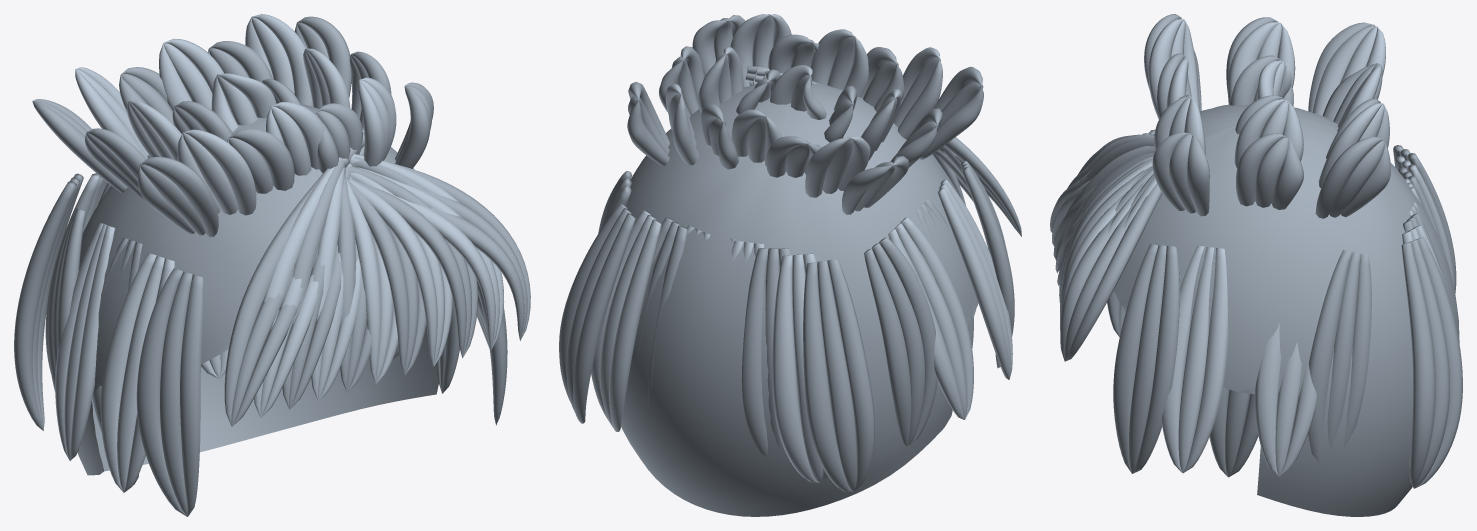
The picture shows the model from 3 angles, left to right: view 1: azimuth 30°, elevation 25°; view 2: azimuth 150°, elevation 25°; view 3: azimuth 270°, elevation 25°; orthographic projection. The views are drawn at different scales.
Visible parts, largest first — view 1: CrownHair_male_ref10, SideHair_-1_0_Strand2, BackHair_00_Strand0, SideHair_-1_0_Strand0, SideHair_-1_0_Strand1, SideHair_-1_1_Strand2, FrontHair_Sweep_00_Strand2, SideHair_-1_1_Strand1, SideHair_-1_3_Strand0, FrontHair_Sweep_07_Strand2, FrontHair_Sweep_06_Strand2, FrontHair_Sweep_08_Strand2 (+73 smaller); view 2: CrownHair_male_ref10, BackHair_00_Strand2, BackHair_01_Strand2, BackHair_00_Strand1, BackHair_00_Strand0, BackHair_07_Strand0, BackHair_02_Strand2, BackHair_08_Strand0, SideHair_-1_4_Strand2, SideHair_-1_1_Strand2, SideHair_-1_4_Strand1, SideHair_-1_4_Strand0 (+53 smaller); view 3: CrownHair_male_ref10, BackHair_08_Strand2, SideHair_1_0_Strand0, SideHair_1_1_Strand0, SideHair_1_0_Strand2, SideHair_1_1_Strand1, SideHair_1_0_Strand1, SideHair_1_4_Strand2, BackHair_08_Strand1, BackHair_08_Strand0, SideHair_1_4_Strand1, SideHair_1_1_Strand2 (+53 smaller).
Boxes of the visible parts, x1=… form: CrownHair_male_ref10: x1=77, y1=104, x2=438, y2=475; SideHair_-1_0_Strand2: x1=136, y1=268, x2=186, y2=516; BackHair_00_Strand0: x1=14, y1=181, x2=76, y2=430; SideHair_-1_0_Strand0: x1=180, y1=274, x2=203, y2=516; SideHair_-1_0_Strand1: x1=160, y1=271, x2=192, y2=516; SideHair_-1_1_Strand2: x1=100, y1=253, x2=156, y2=492; FrontHair_Sweep_00_Strand2: x1=224, y1=132, x2=364, y2=426; SideHair_-1_1_Strand1: x1=117, y1=255, x2=164, y2=492; SideHair_-1_3_Strand0: x1=70, y1=225, x2=115, y2=460; FrontHair_Sweep_07_Strand2: x1=349, y1=178, x2=437, y2=366; FrontHair_Sweep_06_Strand2: x1=347, y1=179, x2=409, y2=374; FrontHair_Sweep_08_Strand2: x1=352, y1=179, x2=466, y2=357; CrownHair_male_ref10: x1=621, y1=83, x2=978, y2=516; BackHair_00_Strand2: x1=803, y1=262, x2=852, y2=491; BackHair_01_Strand2: x1=772, y1=255, x2=818, y2=483; BackHair_00_Strand1: x1=817, y1=260, x2=857, y2=491; BackHair_00_Strand0: x1=827, y1=259, x2=874, y2=490; BackHair_07_Strand0: x1=609, y1=219, x2=661, y2=431; BackHair_02_Strand2: x1=741, y1=248, x2=768, y2=457; BackHair_08_Strand0: x1=573, y1=213, x2=635, y2=423; SideHair_-1_4_Strand2: x1=864, y1=248, x2=911, y2=446; SideHair_-1_1_Strand2: x1=937, y1=187, x2=1010, y2=379; SideHair_-1_4_Strand1: x1=871, y1=243, x2=924, y2=445; SideHair_-1_4_Strand0: x1=878, y1=237, x2=937, y2=444; CrownHair_male_ref10: x1=1113, y1=104, x2=1459, y2=516; BackHair_08_Strand2: x1=1401, y1=242, x2=1435, y2=488; SideHair_1_0_Strand0: x1=1132, y1=246, x2=1179, y2=473; SideHair_1_1_Strand0: x1=1183, y1=248, x2=1228, y2=473; SideHair_1_0_Strand2: x1=1113, y1=244, x2=1158, y2=473; SideHair_1_1_Strand1: x1=1178, y1=247, x2=1213, y2=472; SideHair_1_0_Strand1: x1=1129, y1=245, x2=1166, y2=473; SideHair_1_4_Strand2: x1=1308, y1=250, x2=1351, y2=463; BackHair_08_Strand1: x1=1408, y1=239, x2=1449, y2=488; BackHair_08_Strand0: x1=1414, y1=237, x2=1462, y2=488; SideHair_1_4_Strand1: x1=1327, y1=252, x2=1360, y2=451; SideHair_1_1_Strand2: x1=1162, y1=245, x2=1204, y2=472.
Size of the model in its own units: 0.7789 by 0.8271 by 0.7407.
